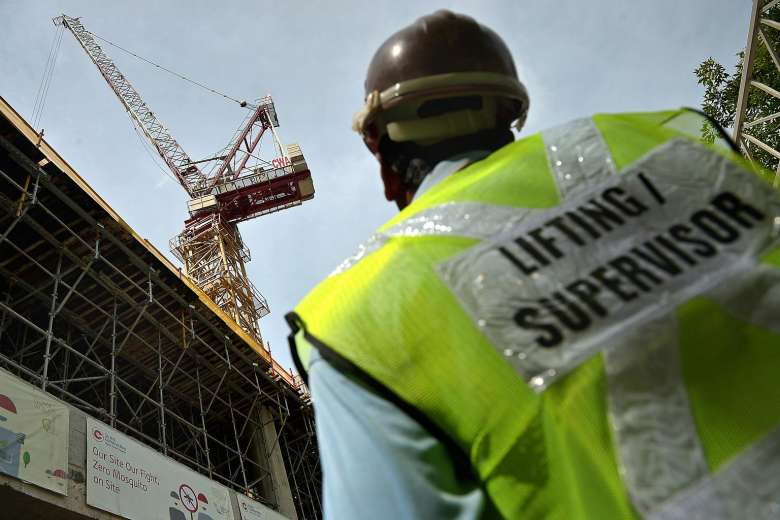Hard Hat: (345, 7, 544, 132)
High Viz: (304, 102, 777, 518)
